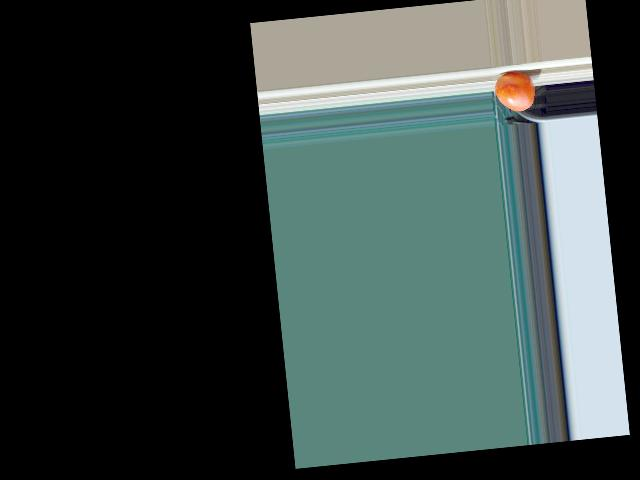tomato: (493, 70, 537, 113)
